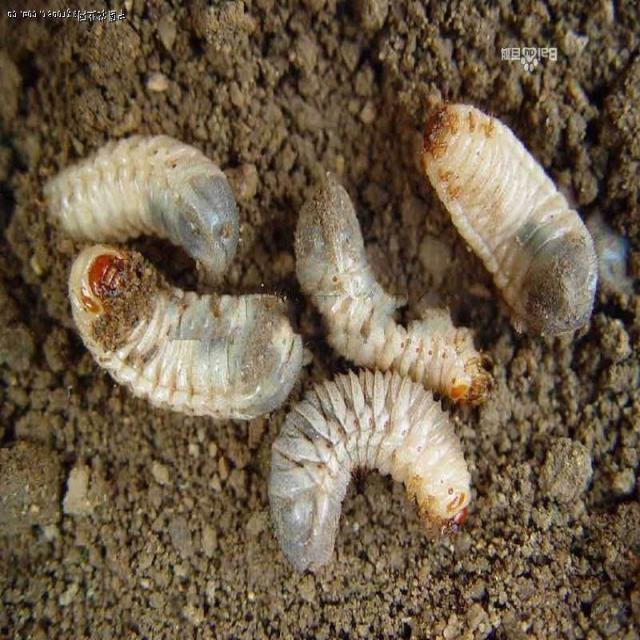grub: (281, 179, 496, 408), (405, 101, 603, 339), (60, 240, 308, 417), (262, 371, 474, 568), (37, 137, 255, 277)
